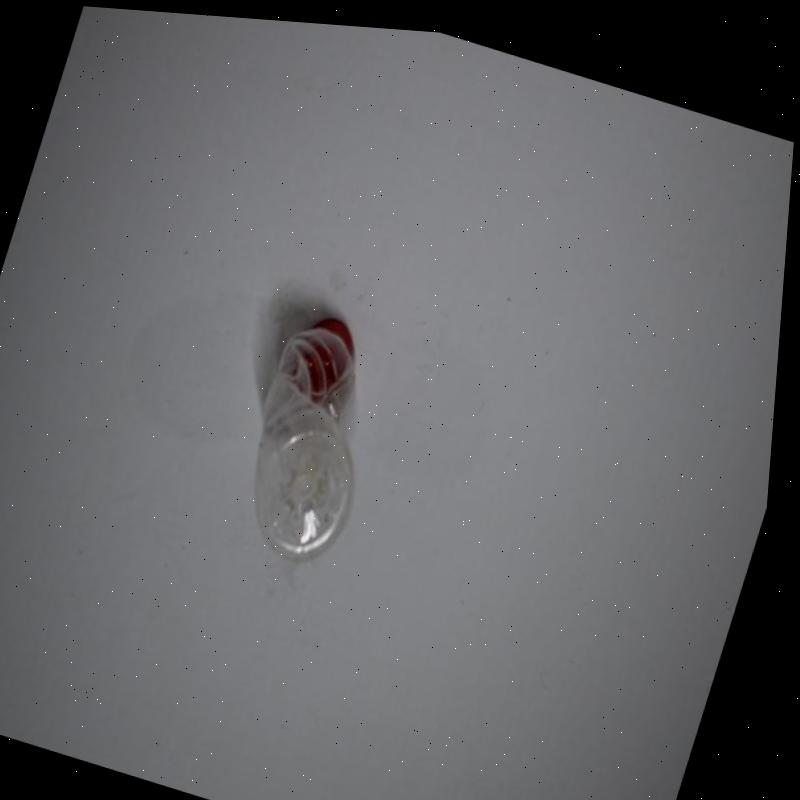botella: (225, 296, 412, 572)
